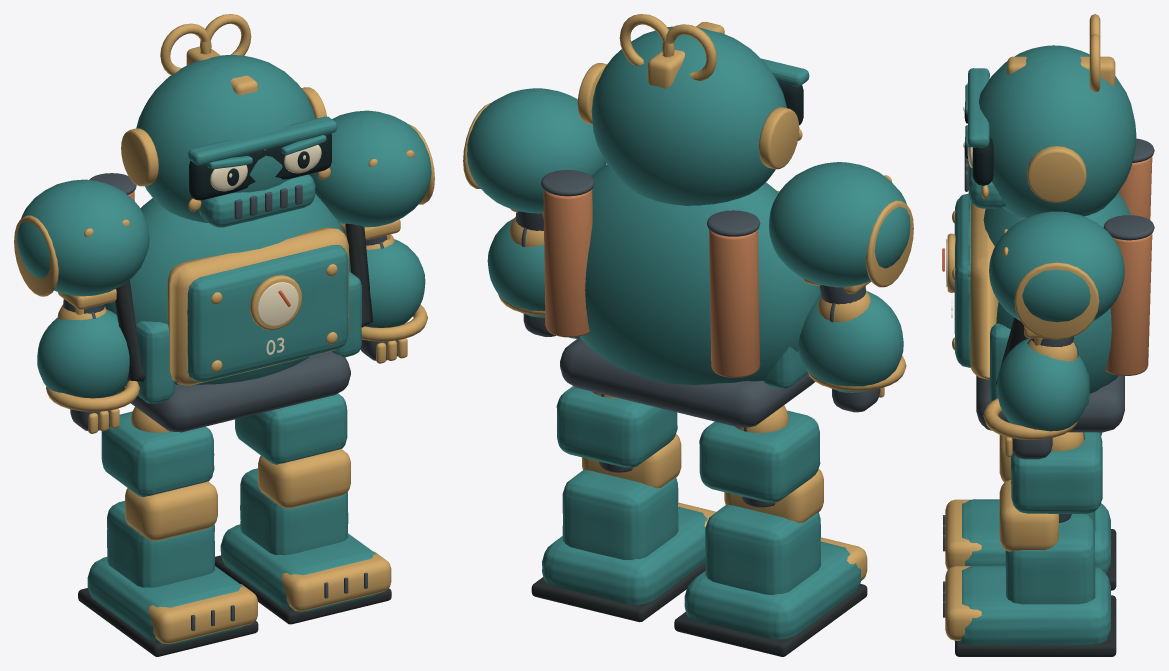
File: boiler_knight.t3.glb
The picture shows the model from 3 angles, left to right: view 1: azimuth 30°, elevation 25°; view 2: azimuth 150°, elevation 25°; view 3: azimuth 270°, elevation 25°; orthographic projection. The views are drawn at different scales.
Visible parts, largest first — view 1: slot_torso__clay_petrol_enamel__clay, slot_head__clay_petrol_enamel__clay, slot_legL__clay_petrol_enamel__clay, slot_legR__clay_petrol_enamel__clay, slot_armL__clay_petrol_enamel__clay, slot_armR__clay_petrol_enamel__clay, slot_torso__forged_bluelead_steel__protected, slot_legL__worn_warm_brass__protected, slot_legR__worn_warm_brass__protected, slot_torso__worn_warm_brass__protected, armL_elbow__clay_petrol_enamel__clay, slot_head__worn_warm_brass__protected (+14 smaller); view 2: slot_torso__clay_petrol_enamel__clay, slot_head__clay_petrol_enamel__clay, slot_legL__clay_petrol_enamel__clay, slot_legR__clay_petrol_enamel__clay, slot_torso__burnished_copper__protected, slot_armL__clay_petrol_enamel__clay, slot_armR__clay_petrol_enamel__clay, slot_torso__forged_bluelead_steel__protected, armL_elbow__clay_petrol_enamel__clay, slot_head__worn_warm_brass__protected, armR_elbow__clay_petrol_enamel__clay, slot_legL__worn_warm_brass__protected (+8 smaller); view 3: slot_head__clay_petrol_enamel__clay, slot_legR__clay_petrol_enamel__clay, slot_armR__clay_petrol_enamel__clay, slot_torso__clay_petrol_enamel__clay, armR_elbow__clay_petrol_enamel__clay, slot_torso__burnished_copper__protected, slot_legR__worn_warm_brass__protected, slot_head__worn_warm_brass__protected, slot_torso__worn_warm_brass__protected, slot_torso__forged_bluelead_steel__protected, slot_legL__clay_petrol_enamel__clay, slot_armR__worn_warm_brass__protected (+7 smaller).
Part boxes in pixels (box(x1,y1,x2,y2)): slot_torso__clay_petrol_enamel__clay: box(104, 194, 361, 403); slot_head__clay_petrol_enamel__clay: box(136, 55, 337, 227); slot_legL__clay_petrol_enamel__clay: box(87, 411, 245, 645); slot_legR__clay_petrol_enamel__clay: box(220, 393, 378, 612); slot_armL__clay_petrol_enamel__clay: box(17, 179, 149, 296); slot_armR__clay_petrol_enamel__clay: box(309, 110, 431, 227); slot_torso__forged_bluelead_steel__protected: box(89, 173, 350, 432); slot_legL__worn_warm_brass__protected: box(125, 407, 257, 644); slot_legR__worn_warm_brass__protected: box(258, 449, 391, 611); slot_torso__worn_warm_brass__protected: box(167, 227, 348, 385); armL_elbow__clay_petrol_enamel__clay: box(37, 309, 129, 398); slot_head__worn_warm_brass__protected: box(121, 14, 330, 211); slot_torso__clay_petrol_enamel__clay: box(570, 164, 820, 388); slot_head__clay_petrol_enamel__clay: box(591, 26, 809, 205); slot_legL__clay_petrol_enamel__clay: box(684, 410, 861, 639); slot_legR__clay_petrol_enamel__clay: box(542, 386, 707, 604); slot_torso__burnished_copper__protected: box(543, 189, 760, 377); slot_armL__clay_petrol_enamel__clay: box(769, 162, 910, 287); slot_armR__clay_petrol_enamel__clay: box(467, 88, 606, 213); slot_torso__forged_bluelead_steel__protected: box(541, 170, 815, 427); armL_elbow__clay_petrol_enamel__clay: box(798, 291, 903, 392); slot_head__worn_warm_brass__protected: box(577, 14, 802, 169); armR_elbow__clay_petrol_enamel__clay: box(487, 218, 545, 317); slot_legL__worn_warm_brass__protected: box(724, 405, 867, 580); slot_head__clay_petrol_enamel__clay: box(965, 45, 1136, 217); slot_legR__clay_petrol_enamel__clay: box(956, 432, 1111, 644); slot_armR__clay_petrol_enamel__clay: box(989, 211, 1124, 322); slot_torso__clay_petrol_enamel__clay: box(954, 192, 1130, 406); armR_elbow__clay_petrol_enamel__clay: box(997, 338, 1089, 431); slot_torso__burnished_copper__protected: box(1105, 156, 1152, 375); slot_legR__worn_warm_brass__protected: box(945, 432, 1084, 640); slot_head__worn_warm_brass__protected: box(981, 14, 1115, 202); slot_torso__worn_warm_brass__protected: box(947, 201, 998, 379); slot_torso__forged_bluelead_steel__protected: box(976, 138, 1154, 432); slot_legL__clay_petrol_enamel__clay: box(962, 432, 1111, 573); slot_armR__worn_warm_brass__protected: box(1003, 229, 1099, 361).
Bounding box in the file's own units: 2.21 × 2.98 × 0.999.
